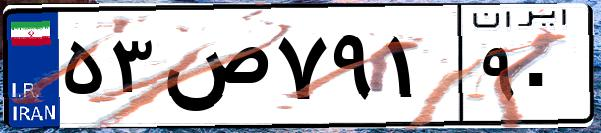0: (525, 38, 570, 115)
1: (385, 28, 445, 110)
3: (110, 28, 158, 98)
5: (57, 26, 110, 100)
7: (270, 28, 330, 110)
9: (330, 28, 385, 110), (475, 38, 525, 113)
ص: (158, 20, 270, 120)
